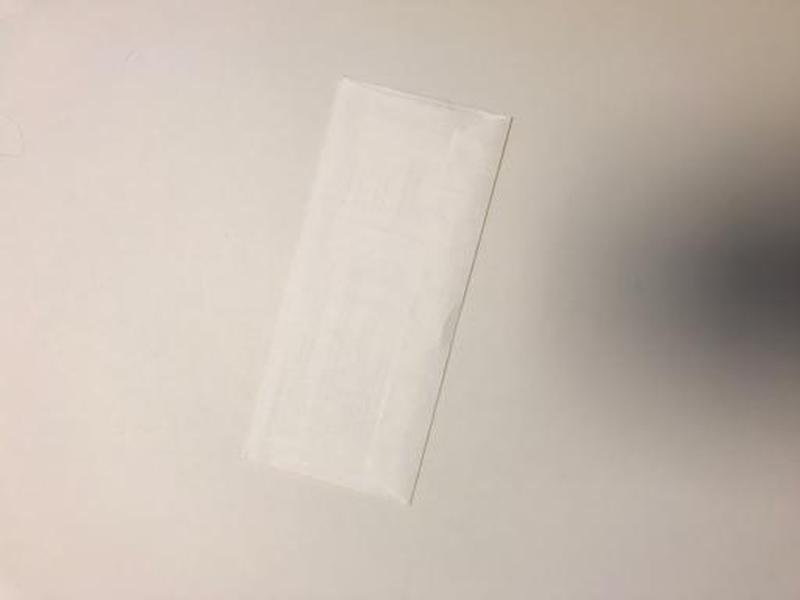paper: (242, 66, 516, 513)
